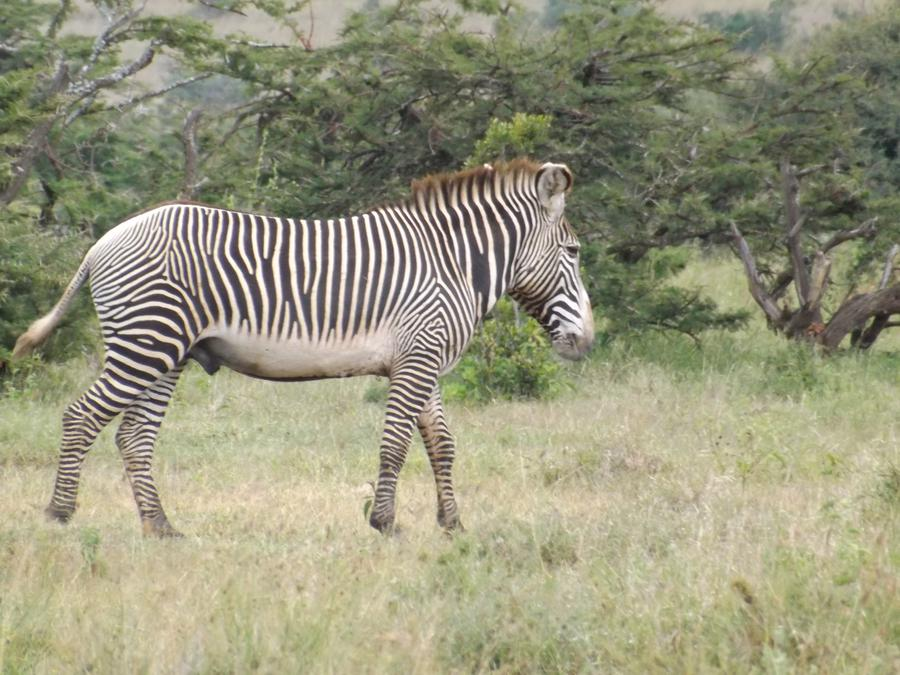zebra_grevys: (95, 199, 450, 372)
